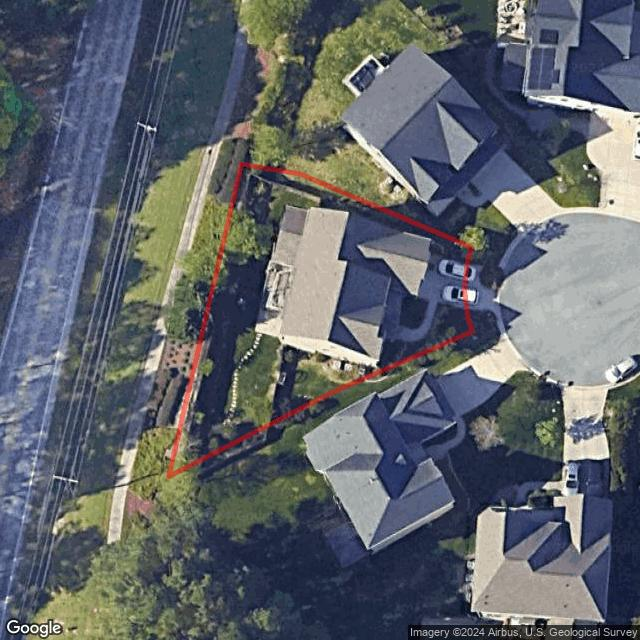Driveway: (421, 256, 467, 309)
Extra-Driveway: (465, 264, 495, 311)
Extra-Lawn: (468, 247, 503, 268), (467, 310, 497, 332)
House: (270, 205, 434, 369)
Lawn: (170, 166, 472, 477)
Other: (169, 169, 273, 476), (268, 341, 408, 425), (400, 294, 429, 328)
Sidewalk: (255, 262, 291, 337), (398, 304, 439, 341)
